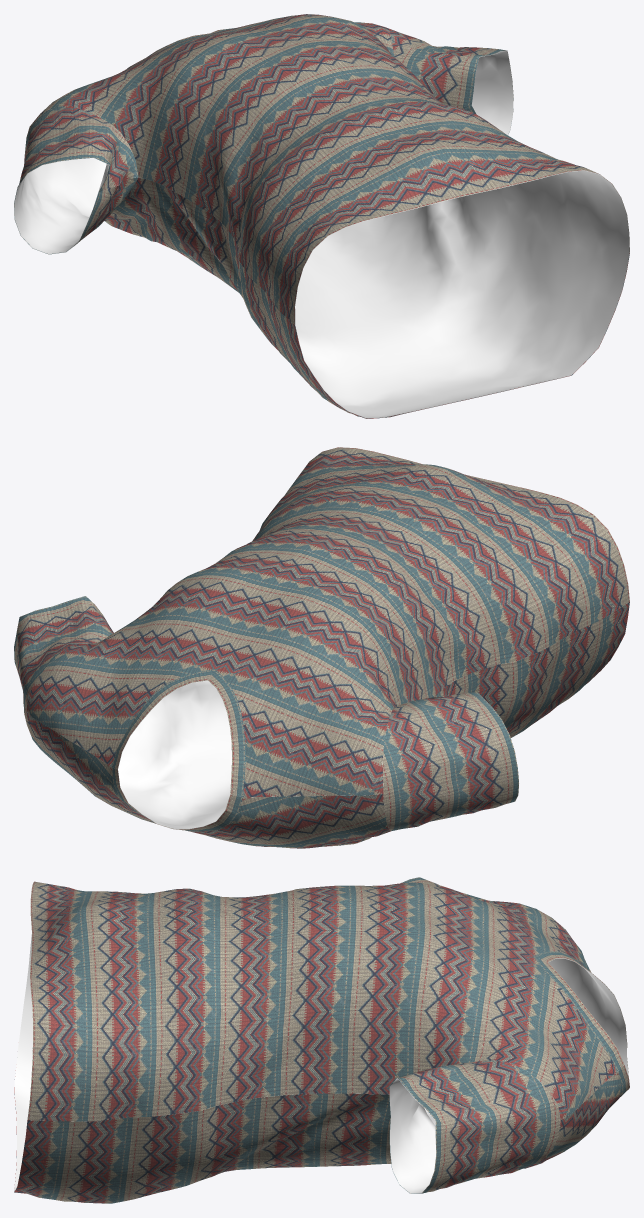
Rendered from male_skn_Sq8yK9e.glb.
3 renders of one model, top to bottom at view 1: azimuth 30°, elevation 25°; view 2: azimuth 150°, elevation 25°; view 3: azimuth 270°, elevation 25°, orthographic. The views are drawn at different scales.
Parts seen in each view (by area): view 1: male_skn; view 2: male_skn; view 3: male_skn.
Boxes of the visible parts, box(x1,y1,x2,y2) form: male_skn: box(14, 14, 629, 418); male_skn: box(14, 447, 629, 848); male_skn: box(14, 877, 629, 1203).
Bounding box in the file's own units: 0.6488 × 0.3233 × 0.6753.
2 materials, 1 textured.
